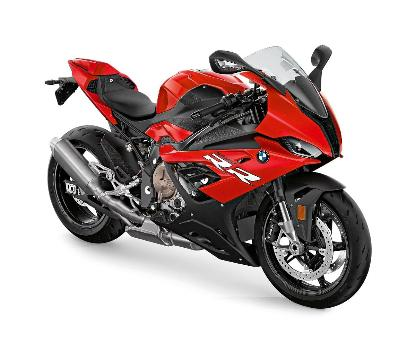bike: (33, 37, 379, 312)
